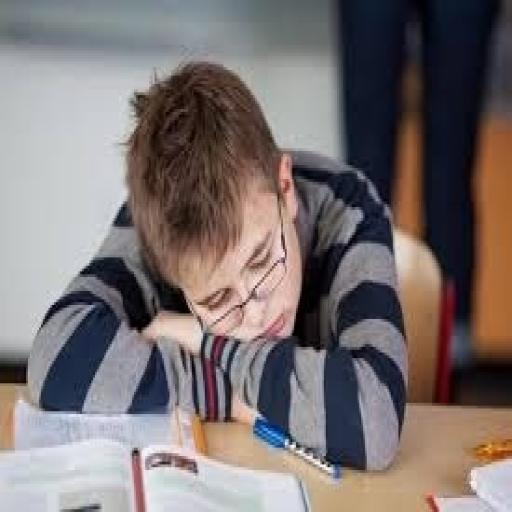sleeping: (24, 56, 412, 473)
